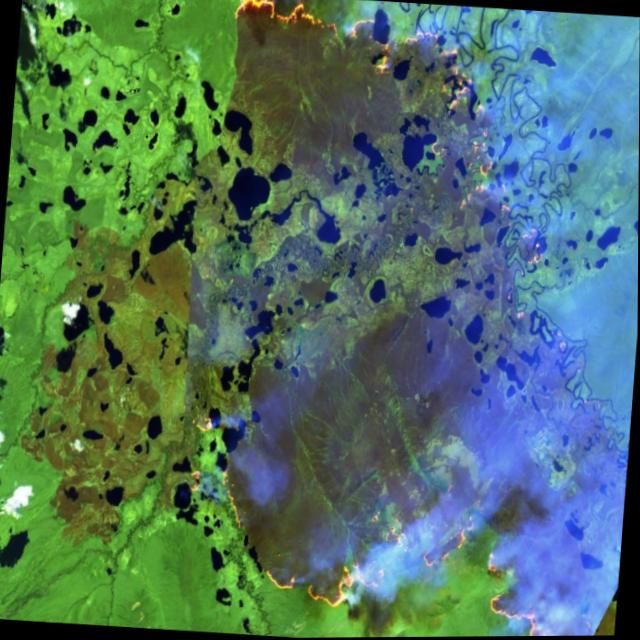fire: (171, 403, 630, 639), (209, 0, 564, 274)
